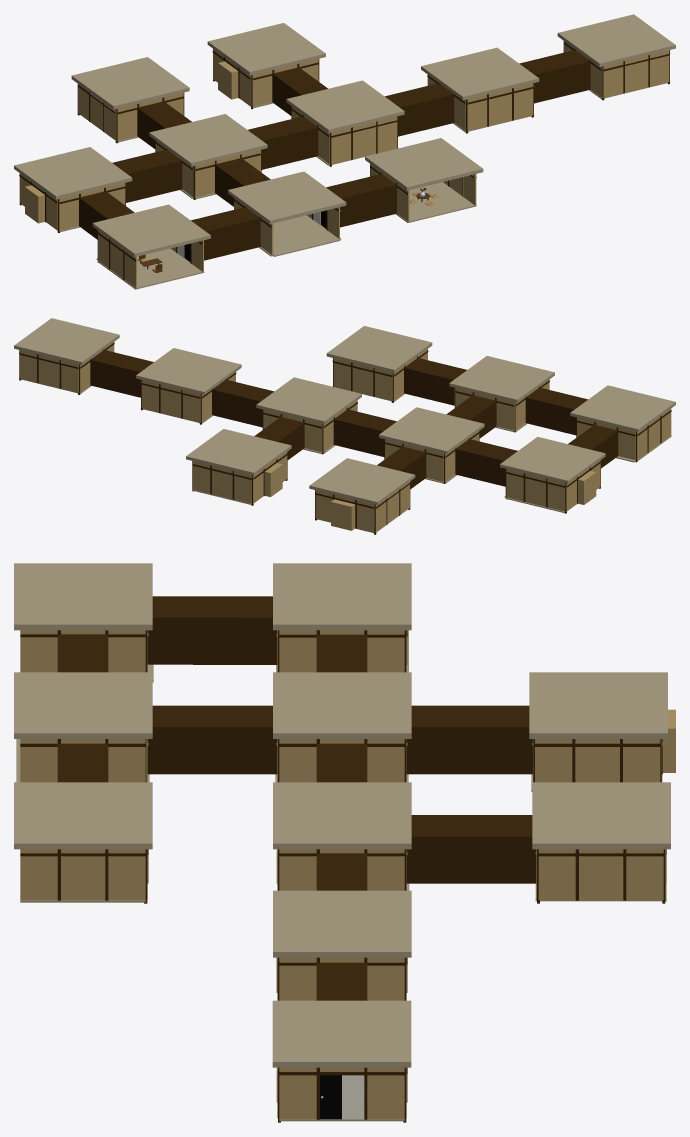
File: Stage_fixed.fbx
3 renders of one model, top to bottom at view 1: azimuth 30°, elevation 25°; view 2: azimuth 150°, elevation 25°; view 3: azimuth 270°, elevation 25°, orthographic. The views are drawn at different scales.
Visible parts, largest first — view 1: Box415, Box414, Box411, Box412, Box413, Box408, Box349, Box416, Box409, Box410, Object102, Box213 (+26 smaller); view 2: Box409, Box411, Box413, Box408, Box349, Box416, Box414, Box412, Box410, Box415, Object102, Box213 (+23 smaller); view 3: Box349, Box415, Box416, Box411, Box409, Box410, Box408, Box414, Box412, Box413, Box215, Box257 (+17 smaller).
Boxes of the visible parts, bbox=[...] form: Box415: bbox=[14, 147, 132, 199]; Box414: bbox=[228, 171, 346, 223]; Box411: bbox=[365, 138, 483, 190]; Box412: bbox=[149, 114, 267, 166]; Box413: bbox=[71, 57, 189, 109]; Box408: bbox=[421, 47, 539, 100]; Box349: bbox=[557, 14, 675, 66]; Box416: bbox=[92, 204, 210, 256]; Box409: bbox=[286, 80, 404, 132]; Box410: bbox=[207, 23, 325, 75]; Object102: bbox=[191, 198, 273, 260]; Box213: bbox=[112, 141, 193, 202]; Box409: bbox=[256, 377, 361, 424]; Box411: bbox=[326, 326, 432, 372]; Box413: bbox=[309, 458, 415, 505]; Box408: bbox=[136, 348, 241, 394]; Box349: bbox=[14, 318, 119, 364]; Box416: bbox=[570, 385, 675, 432]; Box414: bbox=[449, 356, 554, 402]; Box412: bbox=[379, 407, 484, 454]; Box410: bbox=[186, 429, 291, 475]; Box415: bbox=[500, 436, 605, 483]; Object102: bbox=[515, 379, 587, 435]; Box213: bbox=[445, 431, 517, 486]; Box349: bbox=[272, 1000, 411, 1067]; Box415: bbox=[273, 563, 411, 630]; Box416: bbox=[14, 563, 152, 630]; Box411: bbox=[14, 782, 152, 849]; Box409: bbox=[273, 782, 411, 849]; Box410: bbox=[532, 782, 670, 849]; Box408: bbox=[273, 890, 411, 957]; Box414: bbox=[14, 672, 152, 738]; Box412: bbox=[273, 672, 411, 738]; Box413: bbox=[529, 672, 667, 738]; Box215: bbox=[146, 705, 276, 782]; Box257: bbox=[406, 815, 535, 890].
Size of the model in its own units: 2237 by 134 by 1248.
